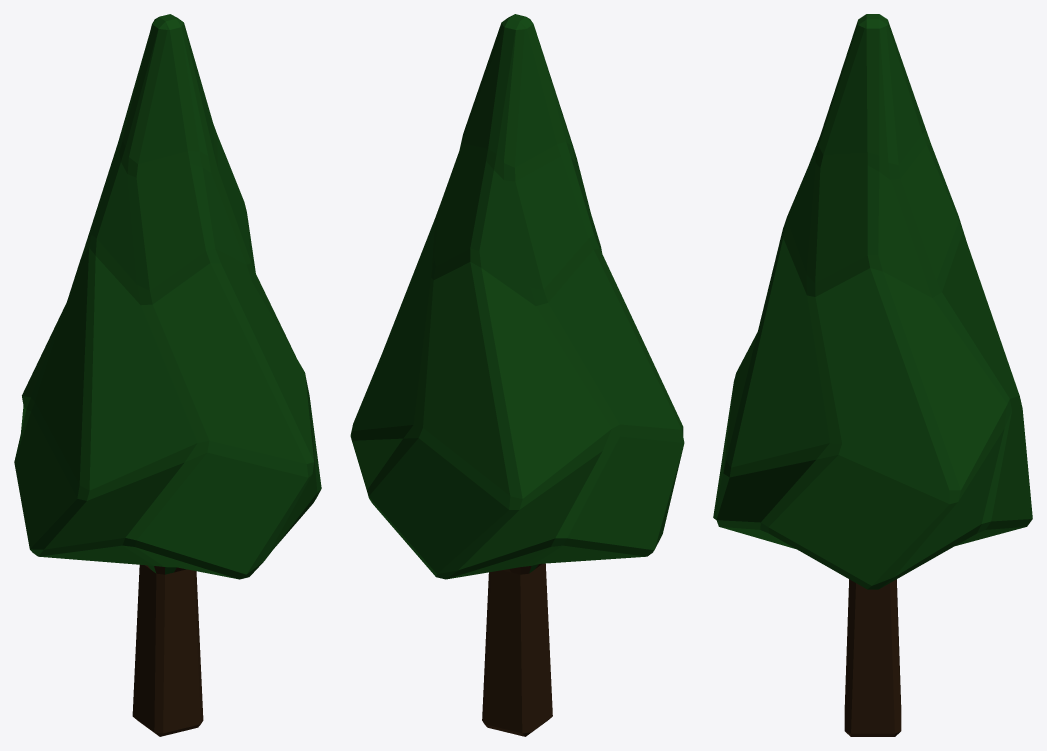
File: Tree_4.fbx
The picture shows the model from 3 angles, left to right: view 1: azimuth 30°, elevation 25°; view 2: azimuth 150°, elevation 25°; view 3: azimuth 270°, elevation 25°; orthographic projection.
Visible parts, largest first — view 1: Cube; view 2: Cube; view 3: Cube.
Boxes of the visible parts, x1,y1,x2,y2 form: Cube: [14, 14, 321, 736]; Cube: [350, 14, 684, 736]; Cube: [713, 14, 1032, 736].
Size of the model in its own units: 1116 by 2739 by 1116.
